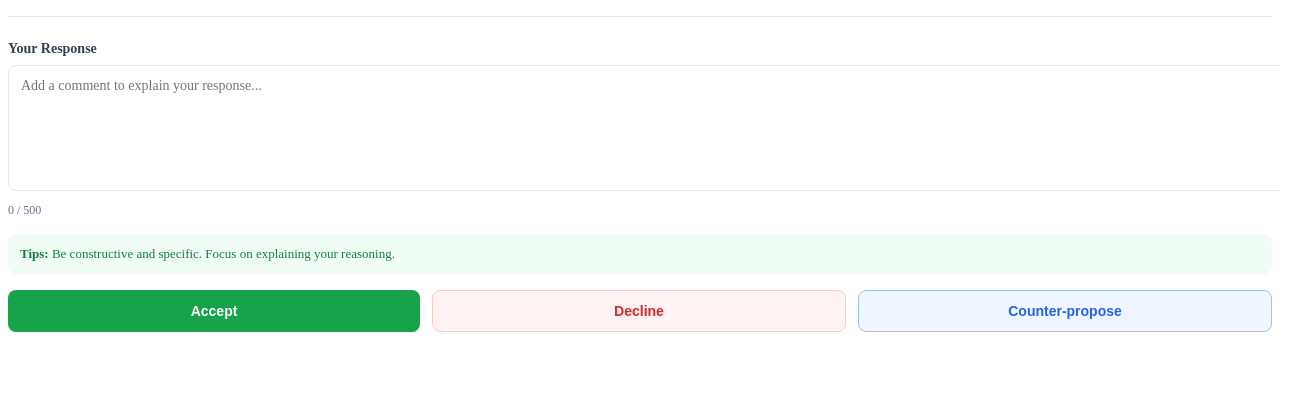
Test case: ProposalResponseForm - Story 34.3 › counter-propose flow › should require comment for counter-propose
Click the button "Counter-propose" at (1065, 311), box x1=858 y1=290 x2=1272 y2=332
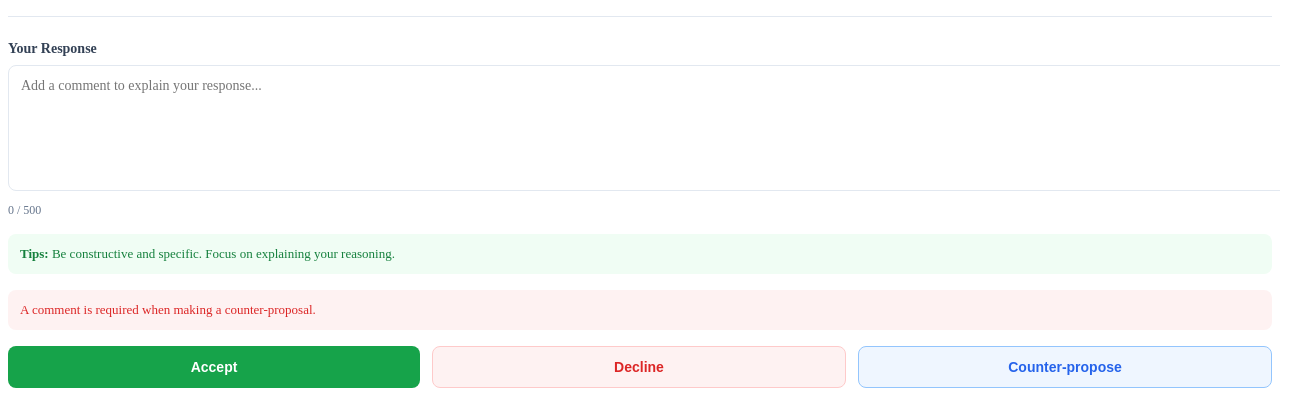
Expected: the text "A comment is required when making a counter-proposal." is shown, x1=8 y1=290 x2=1272 y2=330
